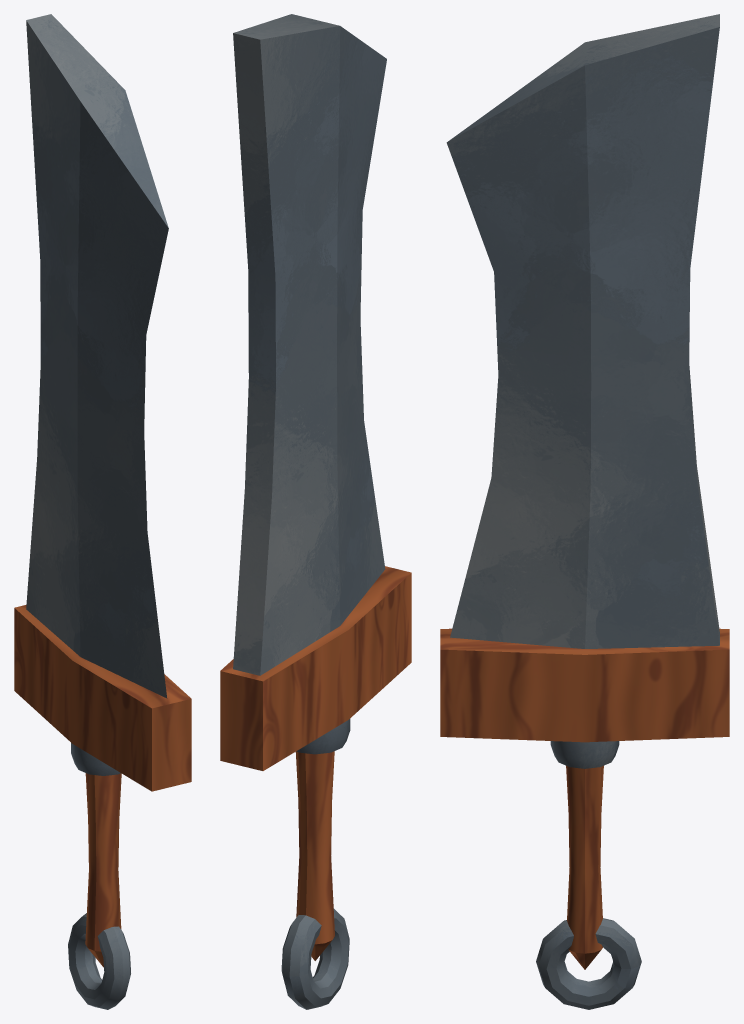
File: SM_Big_Sword.fbx
3 views of the same model, side by side, from view 1: azimuth 30°, elevation 25°; view 2: azimuth 150°, elevation 25°; view 3: azimuth 270°, elevation 25° (orthographic). The views are drawn at different scales.
Parts seen in each view (by area): view 1: SM_Big_Sword; view 2: SM_Big_Sword; view 3: SM_Big_Sword.
Part boxes in pixels (left/top/right/bottom): SM_Big_Sword: left=14, top=14, right=191, bottom=1009; SM_Big_Sword: left=220, top=14, right=411, bottom=1009; SM_Big_Sword: left=440, top=14, right=729, bottom=1009.
Bounding box in the file's own units: 15.33 × 227 × 60.
